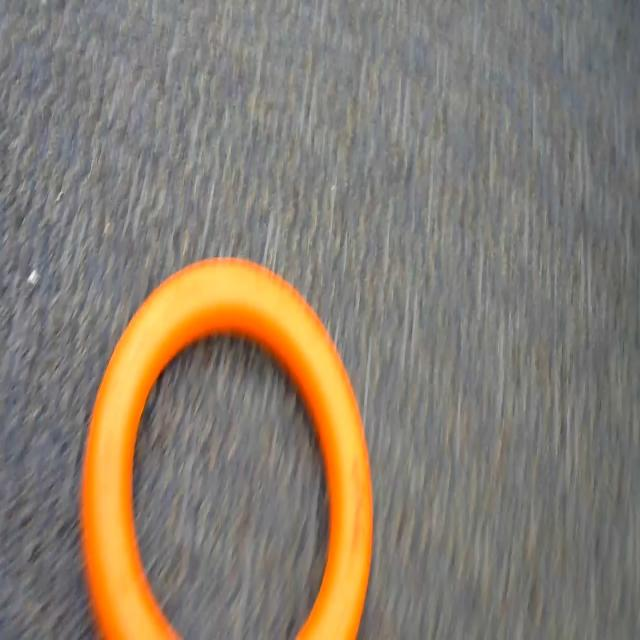note: (76, 235, 374, 640)
